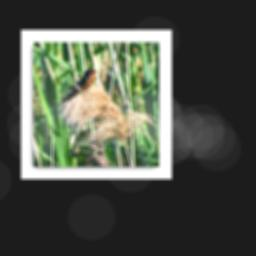Swallow: (57, 67, 100, 106)
